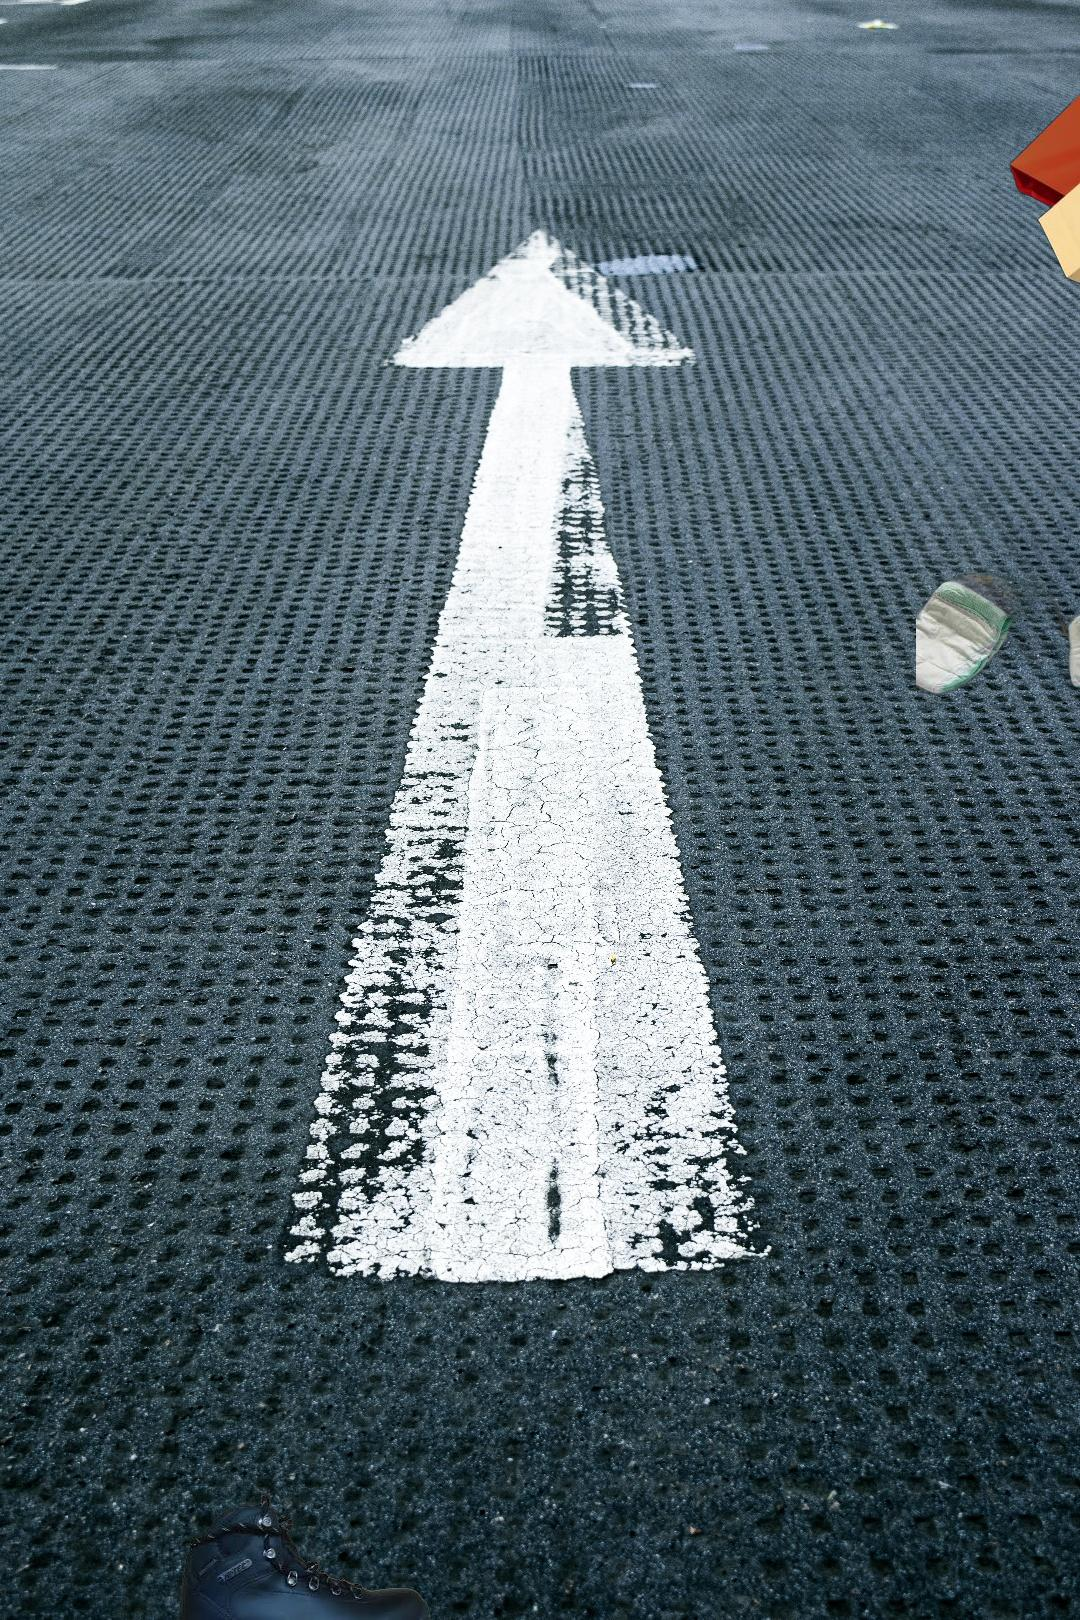paper: (627, 365, 1075, 636)
paper-bag: (1006, 86, 1080, 336)
shoes: (171, 1492, 432, 1620)
trash: (916, 528, 1080, 711)
